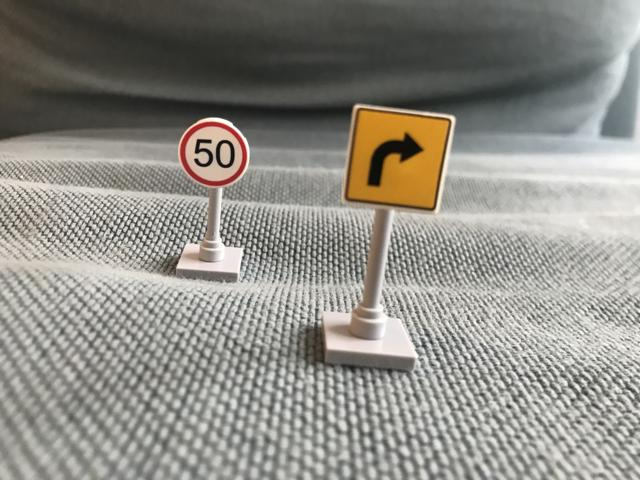fahrtrichtung rechts: (333, 105, 460, 212)
tempolimit 50: (175, 116, 254, 190)
